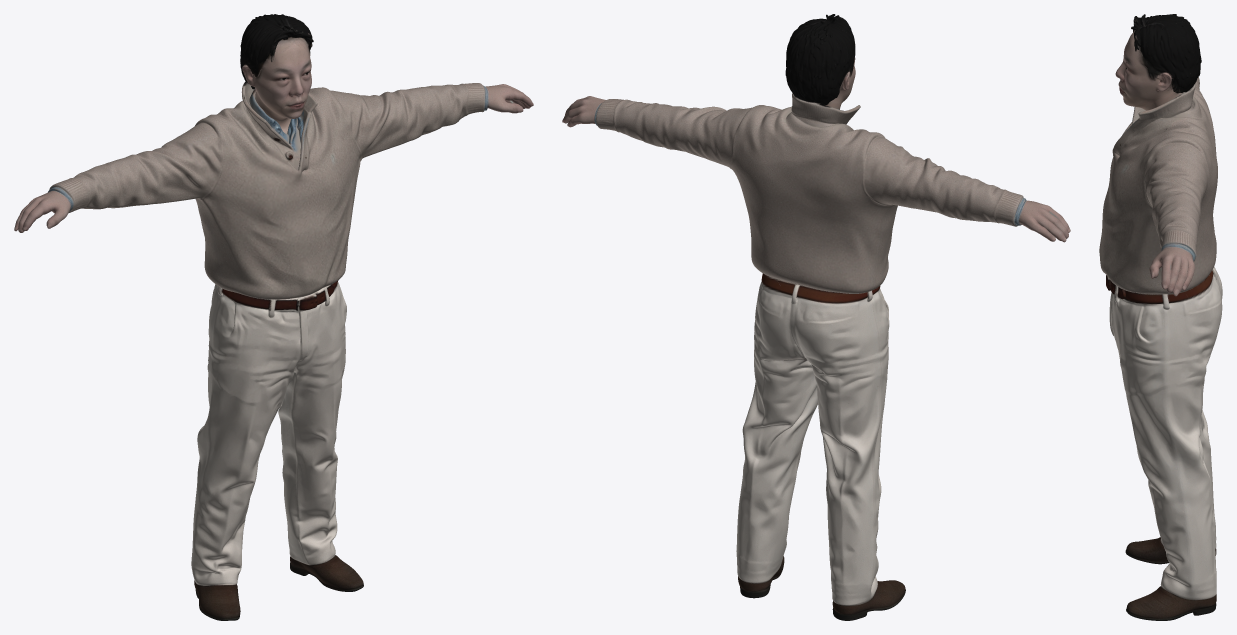
File: sunju.glb
3 views of the same model, side by side, from view 1: azimuth 30°, elevation 25°; view 2: azimuth 150°, elevation 25°; view 3: azimuth 270°, elevation 25° (orthographic). The views are drawn at different scales.
Bounding box in the file's own units: 1.76 × 1.9 × 0.3733.
1 material, 1 textured.
